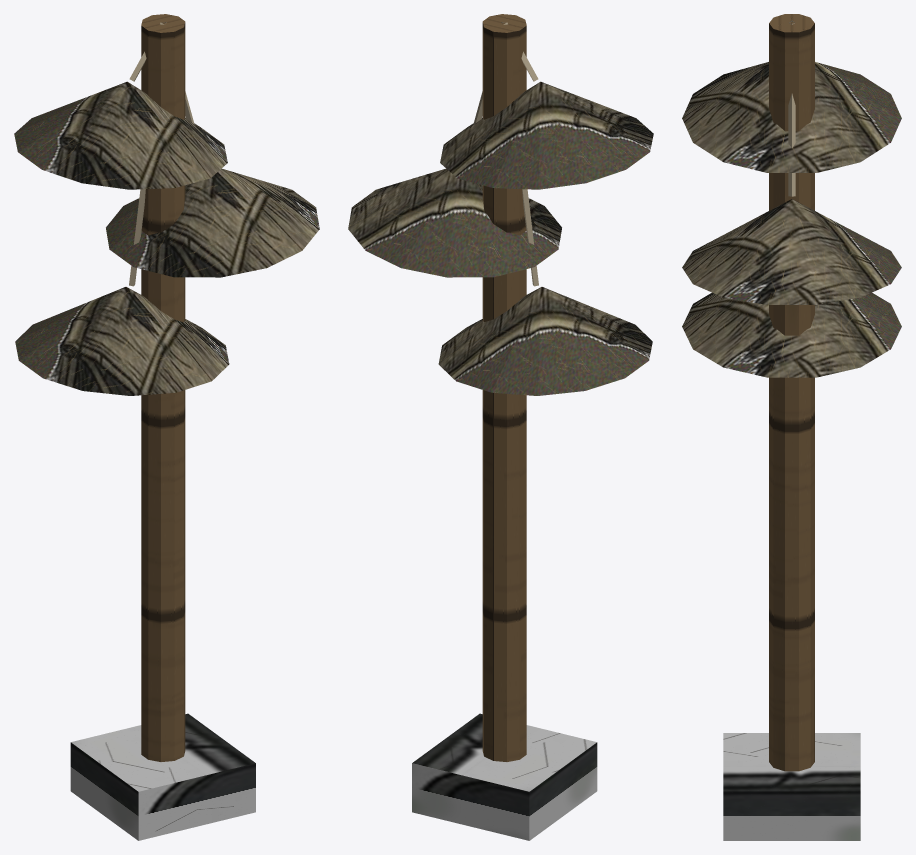
File: cho-ma-non-la-treo-cot.glb
The picture shows the model from 3 angles, left to right: view 1: azimuth 30°, elevation 25°; view 2: azimuth 150°, elevation 25°; view 3: azimuth 270°, elevation 25°; orthographic projection.
Parts seen in each view (by area): view 1: cho-ma-non-la-treo-cot; view 2: cho-ma-non-la-treo-cot; view 3: cho-ma-non-la-treo-cot.
Part boxes in pixels (x1,y1,x2,y2): cho-ma-non-la-treo-cot: (14,14,319,840); cho-ma-non-la-treo-cot: (348,14,653,840); cho-ma-non-la-treo-cot: (682,14,901,840).
Size of the model in its own units: 0.7004 by 1.9 by 0.48.
4 materials, 3 textured.
